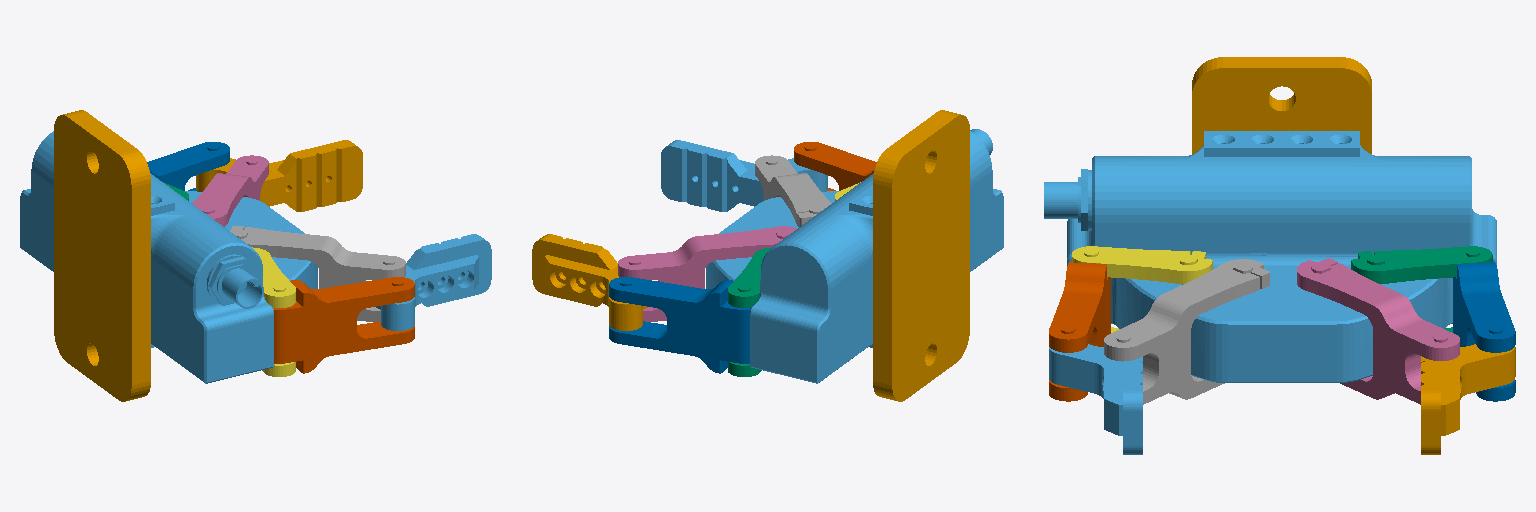
URDF robot description (robotiq_c2_model):
<?xml version="1.0" ?>
<!-- =================================================================================== -->
<!-- |    This document was autogenerated by xacro from robotiq_c2_model.xacro         | -->
<!-- |    EDITING THIS FILE BY HAND IS NOT RECOMMENDED                                 | -->
<!-- =================================================================================== -->
<!-- 
    Please note that the base link of the c_model gripper is
    "${prefix}robotiq_85_adapter_link"
 -->
<robot name="robotiq_c2_model" xmlns:xacro="http://ros.org/wiki/xacro">
  <link name="robotiq_85_adapter_link">
    <visual>
      <geometry>
        <mesh filename="package://meshes/robotiq_c2/visual/robotiq_85_gripper_adapter_plate.obj"/>
      </geometry>
      <origin rpy="1.5707 0 1.5707" xyz="0 0 0"/>
    </visual>
    <!-- <collision>
      <geometry>
        <mesh filename="package://meshes/robotiq_c2/collision/robotiq_85_gripper_adapter_plate.obj"/>
      </geometry>
      <origin rpy="0 0 1.5707" xyz="0 0 0"/>
    </collision> -->
  </link>
  <joint name="robotiq_85_base_joint" type="fixed">
    <parent link="robotiq_85_adapter_link"/>
    <child link="robotiq_85_base_link"/>
    <axis xyz="1 0 0"/>
    <origin rpy="0 0 0" xyz=".0085 0 -.0041"/>
  </joint>
  <link name="robotiq_85_base_link">
    <visual>
      <geometry>
        <mesh filename="package://meshes/robotiq_c2/visual/robotiq_85_gripper_base.obj"/>
      </geometry>
      <origin rpy="3.1415 0 1.5707" xyz="0 0 0"/>
    </visual>
    <!-- <collision>
      <geometry>
        <mesh filename="package://meshes/robotiq_c2/collision/robotiq_85_gripper_base.obj"/>
      </geometry>
      <origin rpy="1.5707 0 1.5707" xyz="0 0 0"/>
    </collision> -->
  </link>
  <joint name="robotiq_85_left_knuckle_joint" type="revolute">
    <parent link="robotiq_85_base_link"/>
    <child link="robotiq_85_left_knuckle_link"/>
    <axis xyz="1 0 0"/>
    <origin rpy="-1.5707 1.5707 0" xyz=".04191 .0306 0"/>
    <limit effort="1000" lower="0" upper=".8575" velocity="2.0"/>
  </joint>
  <joint name="robotiq_85_right_knuckle_joint" type="revolute">
    <parent link="robotiq_85_base_link"/>
    <child link="robotiq_85_right_knuckle_link"/>
    <axis xyz="1 0 0"/>
    <origin rpy="1.5707 -1.5707 0" xyz=".04191 -.0306 0"/>
    <limit effort="1000" lower="0" upper="1.5707" velocity="2.0"/>
    <mimic joint="robotiq_85_left_knuckle_joint" multiplier="1"/>
  </joint>
  <link name="robotiq_85_left_knuckle_link">
    <visual>
      <geometry>
        <mesh filename="package://meshes/robotiq_c2/visual/robotiq_85_gripper_joint_0_L.obj"/>
      </geometry>
      <origin rpy="3.14159 -1.5707 0" xyz="0 .04191 -.0306"/>
    </visual>
    <!-- <collision>
      <geometry>
        <mesh filename="package://meshes/robotiq_c2/collision/robotiq_85_gripper_joint_0_L.obj"/>
      </geometry>
      <origin rpy="1.5707 -1.5707 0" xyz="0 .04191 -.0306"/>
    </collision> -->
  </link>
  <link name="robotiq_85_right_knuckle_link">
    <visual>
      <geometry>
        <mesh filename="package://meshes/robotiq_c2/visual/robotiq_85_gripper_joint_0_R.obj"/>
      </geometry>
      <origin rpy="3.14159 1.5707 0" xyz="0 .04191 -.0306"/>
    </visual>
    <!-- <collision>
      <geometry>
        <mesh filename="package://meshes/robotiq_c2/collision/robotiq_85_gripper_joint_0_R.obj"/>
      </geometry>
      <origin rpy="1.5707 1.5707 0" xyz="0 .04191 -.0306"/>
    </collision> -->
  </link>
  <joint name="robotiq_85_left_finger_joint" type="fixed">
    <parent link="robotiq_85_left_knuckle_link"/>
    <child link="robotiq_85_left_finger_link"/>
    <axis xyz="1 0 0"/>
    <origin rpy="3.1415 0 0" xyz="0 .00508 .03134"/>
    <limit effort="1000" lower="0" upper="1.5707" velocity="2.0"/>
  </joint>
  <joint name="robotiq_85_right_finger_joint" type="fixed">
    <parent link="robotiq_85_right_knuckle_link"/>
    <child link="robotiq_85_right_finger_link"/>
    <axis xyz="1 0 0"/>
    <origin rpy="3.1415 0 0" xyz="0 .00508 .03134"/>
    <limit effort="1000" lower="0" upper="1.5707" velocity="2.0"/>
  </joint>
  <link name="robotiq_85_left_finger_link">
    <visual>
      <geometry>
        <mesh filename="package://meshes/robotiq_c2/visual/robotiq_85_gripper_joint_1_L.obj"/>
      </geometry>
      <origin rpy="0 1.5707 0" xyz="0 -.03683 .06194"/>
    </visual>
    <!-- <collision>
      <geometry>
        <mesh filename="package://meshes/robotiq_c2/collision/robotiq_85_gripper_joint_1_L.obj"/>
      </geometry>
      <origin rpy="-1.5707 1.5707 0" xyz="0 -.03683 .06194"/>
    </collision> -->
  </link>
  <link name="robotiq_85_right_finger_link">
    <visual>
      <geometry>
        <mesh filename="package://meshes/robotiq_c2/visual/robotiq_85_gripper_joint_1_R.obj"/>
      </geometry>
      <origin rpy="0 -1.5707 0" xyz="0 -.03683 .06194"/>
    </visual>
    <!-- <collision>
      <geometry>
        <mesh filename="package://meshes/robotiq_c2/collision/robotiq_85_gripper_joint_1_R.obj"/>
      </geometry>
      <origin rpy="-1.5707 -1.5707 0" xyz="0 -.03683 .06194"/>
    </collision> -->
  </link>
  <joint name="robotiq_85_left_inner_knuckle_joint" type="revolute">
    <parent link="robotiq_85_base_link"/>
    <child link="robotiq_85_left_inner_knuckle_link"/>
    <axis xyz="1 0 0"/>
    <origin rpy="1.5707 1.5707 0" xyz=".04843 .0127 0"/>
    <limit effort="1000" lower="0" upper="1.5707" velocity="2.0"/>
    <mimic joint="robotiq_85_left_knuckle_joint" offset="0"/>
  </joint>
  <joint name="robotiq_85_right_inner_knuckle_joint" type="revolute">
    <parent link="robotiq_85_base_link"/>
    <child link="robotiq_85_right_inner_knuckle_link"/>
    <axis xyz="1 0 0"/>
    <origin rpy="-1.5707 -1.5707 0" xyz=".04843 -.0127 0"/>
    <limit effort="1000" lower="0" upper="1.5707" velocity="2.0"/>
    <mimic joint="robotiq_85_left_knuckle_joint" offset="0"/>
  </joint>
  <link name="robotiq_85_left_inner_knuckle_link">
    <visual>
      <geometry>
        <mesh filename="package://meshes/robotiq_c2/visual/robotiq_85_gripper_joint_2_L.obj"/>
      </geometry>
      <origin rpy="0 1.5707 0" xyz="0 -.04843 .0127"/>
    </visual>
    <!-- <collision>
      <geometry>
        <mesh filename="package://meshes/robotiq_c2/collision/robotiq_85_gripper_joint_2_L.obj"/>
      </geometry>
      <origin rpy="-1.5707 1.5707 0" xyz="0 -.04843 .0127"/>
    </collision> -->
  </link>
  <link name="robotiq_85_right_inner_knuckle_link">
    <visual>
      <geometry>
        <mesh filename="package://meshes/robotiq_c2/visual/robotiq_85_gripper_joint_2_R.obj"/>
      </geometry>
      <origin rpy="0 -1.5707 0" xyz="0 -.04843 .0127"/>
    </visual>
    <!-- <collision>
      <geometry>
        <mesh filename="package://meshes/robotiq_c2/collision/robotiq_85_gripper_joint_2_R.obj"/>
      </geometry>
      <origin rpy="-1.5707 -1.5707 0" xyz="0 -.04843 .0127"/>
    </collision> -->
  </link>
  <joint name="robotiq_85_left_finger_tip_joint" type="revolute">
    <parent link="robotiq_85_left_inner_knuckle_link"/>
    <child link="robotiq_85_left_finger_tip_link"/>
    <axis xyz="1 0 0"/>
    <origin rpy="0 0 0" xyz="0 .04196 -.0388"/>
    <limit effort="1000" lower="0" upper="1.5707" velocity="2.0"/>
    <mimic joint="robotiq_85_left_knuckle_joint" multiplier="-1"/>
  </joint>
  <joint name="robotiq_85_right_finger_tip_joint" type="revolute">
    <parent link="robotiq_85_right_inner_knuckle_link"/>
    <child link="robotiq_85_right_finger_tip_link"/>
    <axis xyz="1 0 0"/>
    <origin rpy="0 0 0" xyz="0 .04196 -.0388"/>
    <limit effort="1000" lower="0" upper="1.5707" velocity="2.0"/>
    <mimic joint="robotiq_85_left_knuckle_joint" multiplier="-1"/>
  </joint>
  <link name="robotiq_85_left_finger_tip_link">
    <visual>
      <geometry>
        <mesh filename="package://meshes/robotiq_c2/visual/robotiq_85_gripper_joint_3_L.obj"/>
      </geometry>
      <origin rpy="0 1.5707 0" xyz="0 -.090381 .051505"/>
    </visual>
    <!-- <collision>
      <geometry>
        <mesh filename="package://meshes/robotiq_c2/collision/robotiq_85_gripper_joint_3_L.obj"/>
      </geometry>
      <origin rpy="-1.5707 1.5707 0" xyz="0 -.090381 .051505"/>
    </collision> -->
  </link>
  <link name="robotiq_85_right_finger_tip_link">
    <visual>
      <geometry>
        <mesh filename="package://meshes/robotiq_c2/visual/robotiq_85_gripper_joint_3_R.obj"/>
      </geometry>
      <origin rpy="0 -1.5707 0" xyz="0 -.090381 .051505"/>
    </visual>
    <!-- <collision>
      <geometry>
        <mesh filename="package://meshes/robotiq_c2/collision/robotiq_85_gripper_joint_3_R.obj"/>
      </geometry>
      <origin rpy="-1.5707 -1.5707 0" xyz="0 -.090381 .051505"/>
    </collision> -->
  </link>
</robot>

--- Render facts (derived) ---
The picture shows the robot from 3 angles, left to right: view 1: azimuth 30°, elevation 25°; view 2: azimuth 150°, elevation 25°; view 3: azimuth 270°, elevation 25°; orthographic projection.
Robot: robotiq_c2_model — 10 links, 9 joints (6 revolute, 3 fixed); root link robotiq_85_adapter_link; default pose: all joints at 0.
Links seen in each view (by area): view 1: robotiq_85_adapter_link, robotiq_85_base_link, robotiq_85_right_finger_link, robotiq_85_left_finger_tip_link, robotiq_85_right_finger_tip_link, robotiq_85_right_inner_knuckle_link, robotiq_85_left_inner_knuckle_link, robotiq_85_left_finger_link, robotiq_85_right_knuckle_link; view 2: robotiq_85_adapter_link, robotiq_85_base_link, robotiq_85_left_finger_link, robotiq_85_right_finger_tip_link, robotiq_85_left_finger_tip_link, robotiq_85_left_inner_knuckle_link, robotiq_85_right_inner_knuckle_link, robotiq_85_right_finger_link, robotiq_85_left_knuckle_link; view 3: robotiq_85_base_link, robotiq_85_adapter_link, robotiq_85_right_inner_knuckle_link, robotiq_85_left_inner_knuckle_link, robotiq_85_left_finger_tip_link, robotiq_85_right_finger_tip_link, robotiq_85_left_finger_link, robotiq_85_right_finger_link, robotiq_85_left_knuckle_link, robotiq_85_right_knuckle_link.
Boxes of the visible links, x1=… form: robotiq_85_adapter_link: x1=54, y1=110, x2=150, y2=401; robotiq_85_base_link: x1=20, y1=131, x2=317, y2=383; robotiq_85_right_finger_link: x1=273, y1=277, x2=414, y2=373; robotiq_85_left_finger_tip_link: x1=196, y1=140, x2=362, y2=211; robotiq_85_right_finger_tip_link: x1=376, y1=234, x2=491, y2=330; robotiq_85_right_inner_knuckle_link: x1=230, y1=225, x2=405, y2=321; robotiq_85_left_inner_knuckle_link: x1=192, y1=155, x2=268, y2=226; robotiq_85_left_finger_link: x1=147, y1=142, x2=229, y2=191; robotiq_85_right_knuckle_link: x1=252, y1=247, x2=295, y2=376; robotiq_85_adapter_link: x1=873, y1=110, x2=969, y2=401; robotiq_85_base_link: x1=706, y1=129, x2=1003, y2=383; robotiq_85_left_finger_link: x1=609, y1=277, x2=750, y2=373; robotiq_85_right_finger_tip_link: x1=661, y1=140, x2=827, y2=211; robotiq_85_left_finger_tip_link: x1=532, y1=234, x2=647, y2=330; robotiq_85_left_inner_knuckle_link: x1=618, y1=226, x2=796, y2=321; robotiq_85_right_inner_knuckle_link: x1=755, y1=155, x2=831, y2=226; robotiq_85_right_finger_link: x1=794, y1=142, x2=876, y2=191; robotiq_85_left_knuckle_link: x1=728, y1=247, x2=771, y2=376; robotiq_85_base_link: x1=1044, y1=131, x2=1496, y2=382; robotiq_85_adapter_link: x1=1192, y1=57, x2=1371, y2=154; robotiq_85_right_inner_knuckle_link: x1=1104, y1=259, x2=1269, y2=404; robotiq_85_left_inner_knuckle_link: x1=1297, y1=258, x2=1459, y2=404; robotiq_85_left_finger_tip_link: x1=1421, y1=344, x2=1515, y2=454; robotiq_85_right_finger_tip_link: x1=1049, y1=344, x2=1142, y2=454; robotiq_85_left_finger_link: x1=1453, y1=262, x2=1515, y2=401; robotiq_85_right_finger_link: x1=1049, y1=262, x2=1110, y2=401; robotiq_85_left_knuckle_link: x1=1351, y1=246, x2=1492, y2=332; robotiq_85_right_knuckle_link: x1=1072, y1=246, x2=1212, y2=332.
Bounding box of the posed robot: 0.1434 × 0.1529 × 0.102 m (x, y, z).
10 mesh visuals loaded from 10 distinct referenced files (10 OBJ).